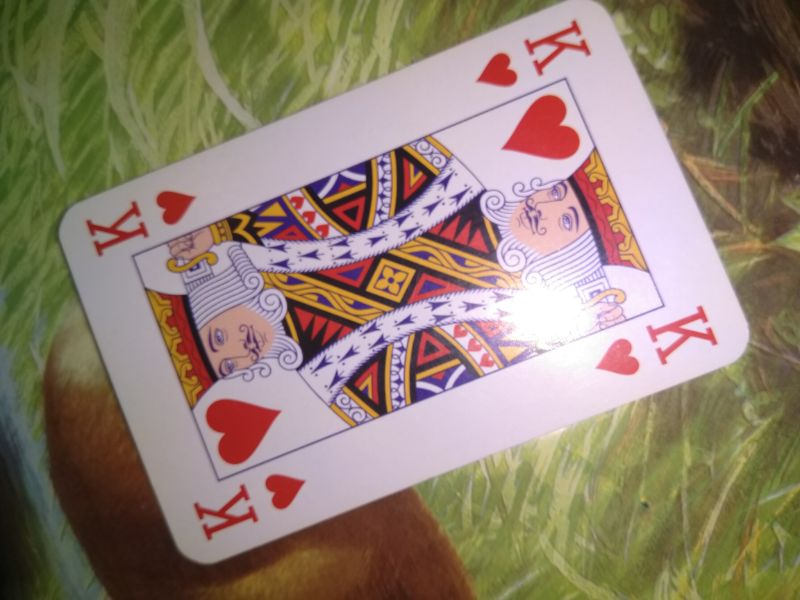Kh: (591, 303, 721, 378), (472, 15, 593, 90), (81, 185, 200, 259), (190, 471, 307, 543)
